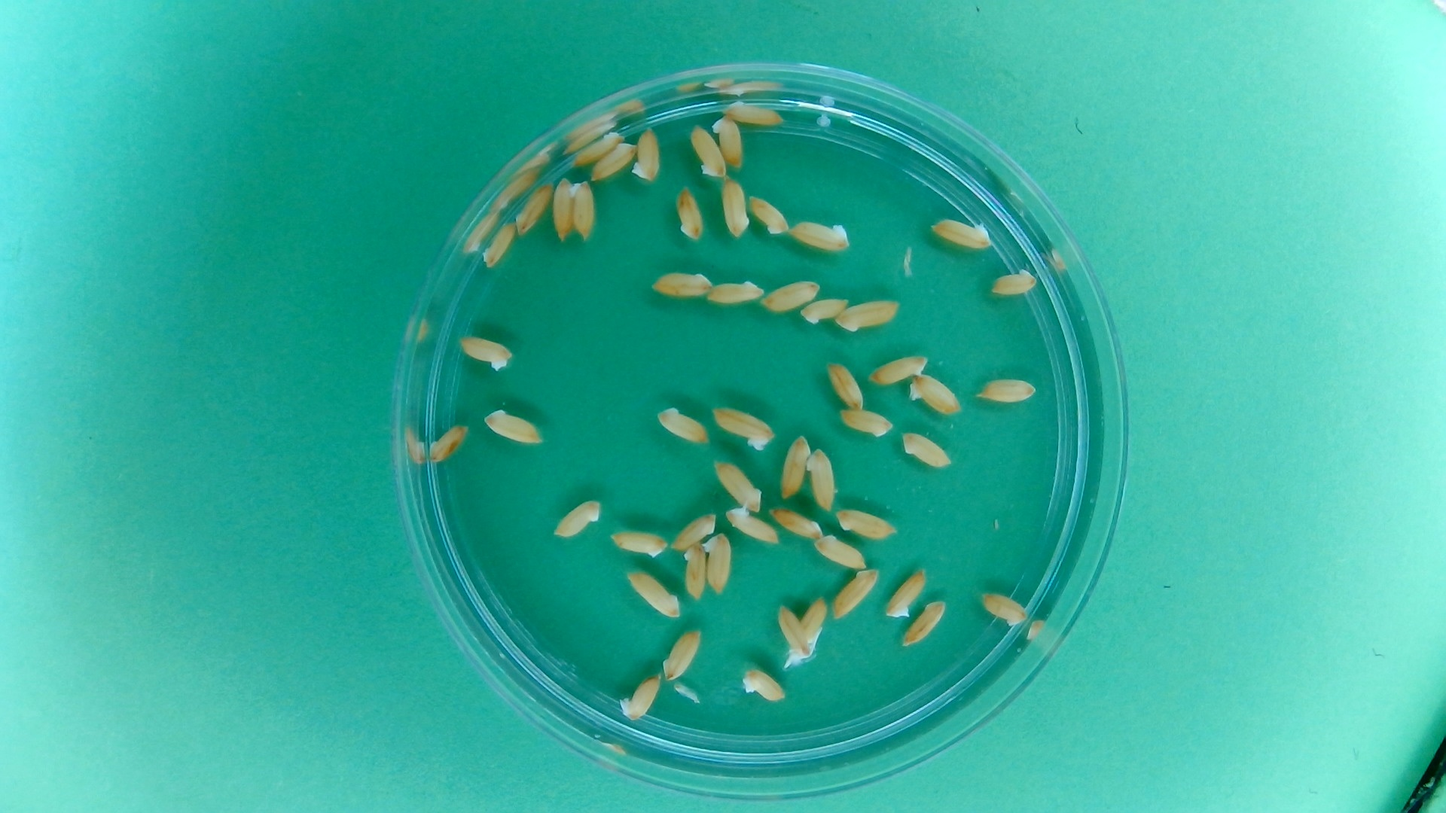no: (709, 403, 778, 452), (711, 456, 765, 513), (830, 565, 883, 622), (625, 568, 683, 620), (480, 405, 545, 448), (906, 370, 964, 416), (653, 402, 711, 446), (883, 565, 929, 620), (834, 297, 902, 334), (722, 502, 780, 545), (786, 217, 853, 254), (514, 179, 556, 238), (456, 332, 515, 374), (758, 277, 823, 315), (901, 598, 949, 649), (927, 214, 993, 251), (660, 627, 703, 683), (778, 431, 812, 501), (570, 128, 628, 169), (687, 122, 728, 180), (804, 446, 840, 511), (551, 497, 604, 540), (833, 505, 898, 540), (618, 672, 663, 722), (700, 530, 734, 596), (866, 352, 930, 387), (810, 532, 868, 570), (648, 266, 714, 299), (793, 596, 825, 664), (900, 429, 954, 469), (588, 140, 638, 183), (710, 113, 748, 169), (825, 358, 865, 411), (746, 192, 792, 238), (718, 175, 750, 241), (568, 176, 599, 244), (480, 219, 519, 273), (717, 98, 786, 128), (426, 420, 471, 466), (668, 510, 717, 552), (630, 124, 664, 184), (978, 588, 1030, 627), (976, 374, 1039, 406), (673, 181, 706, 242), (767, 505, 824, 540), (703, 276, 766, 307), (606, 528, 669, 559), (834, 406, 894, 438), (549, 175, 577, 243), (797, 294, 851, 327), (987, 264, 1039, 298), (740, 667, 787, 704), (679, 542, 708, 601)
yes: (775, 601, 813, 665)
